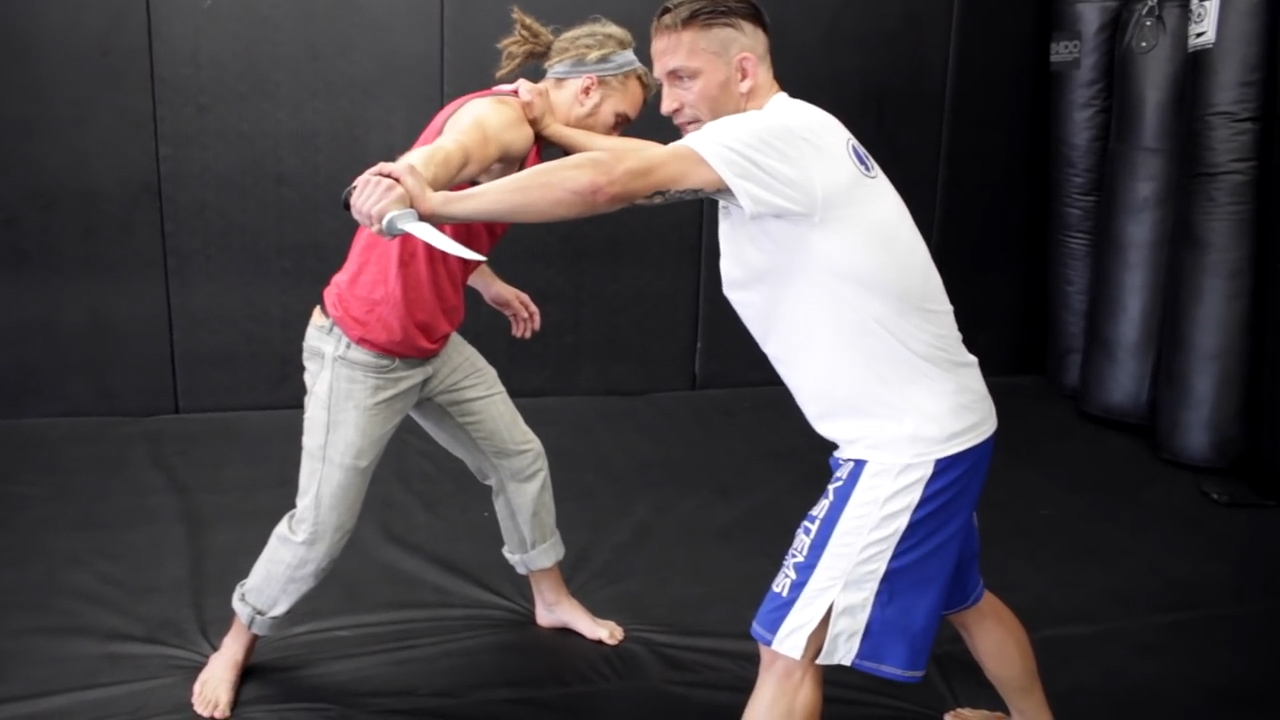knife: (335, 179, 495, 274)
